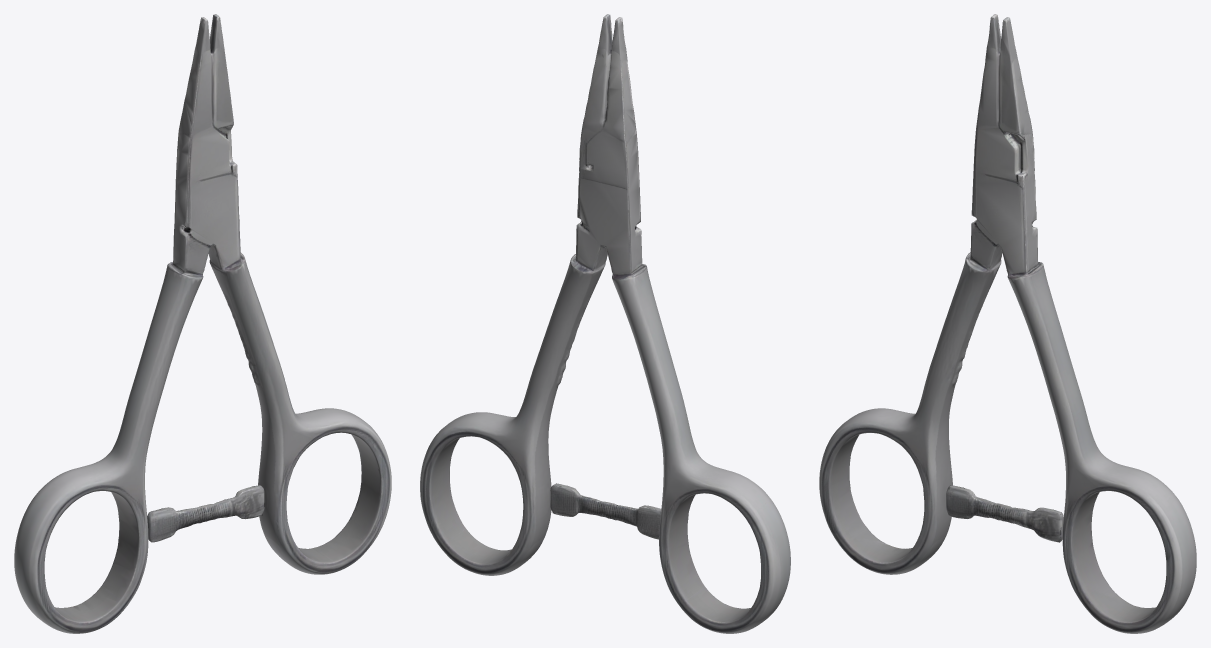
Rendered from vet_equip_hemostats.glb.
3 renders of one model, left to right at view 1: azimuth 30°, elevation 25°; view 2: azimuth 150°, elevation 25°; view 3: azimuth 330°, elevation 25°, orthographic.
Visible parts, largest first — view 1: model; view 2: model; view 3: model.
Part boxes in pixels (x1=…): model: x1=14, y1=14, x2=391, y2=633; model: x1=420, y1=14, x2=790, y2=633; model: x1=819, y1=14, x2=1196, y2=633.
Bounding box in the file's own units: 1.24 × 1.9 × 0.1448.
1 material, 1 textured.
